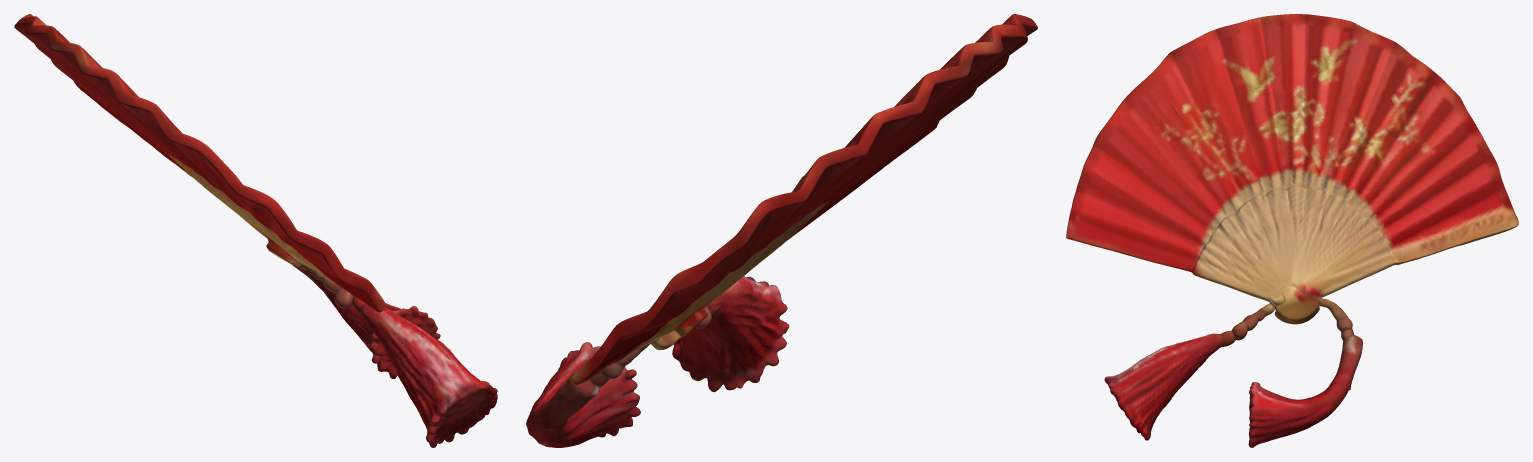
File: phu_kien_5.glb
3 views of the same model, side by side, from view 1: azimuth 30°, elevation 25°; view 2: azimuth 150°, elevation 25°; view 3: azimuth 270°, elevation 25° (orthographic). The views are drawn at different scales.
Visible parts, largest first — view 1: PhuKien_5; view 2: PhuKien_5; view 3: PhuKien_5.
Boxes of the visible parts, x1,y1,x2,y2 form: PhuKien_5: (14,14,497,447); PhuKien_5: (526,14,1037,447); PhuKien_5: (1066,14,1518,447).
Bounding box in the file's own units: 0.1324 × 0.1426 × 0.1854.
Materials: 1 (1 with a texture image).
